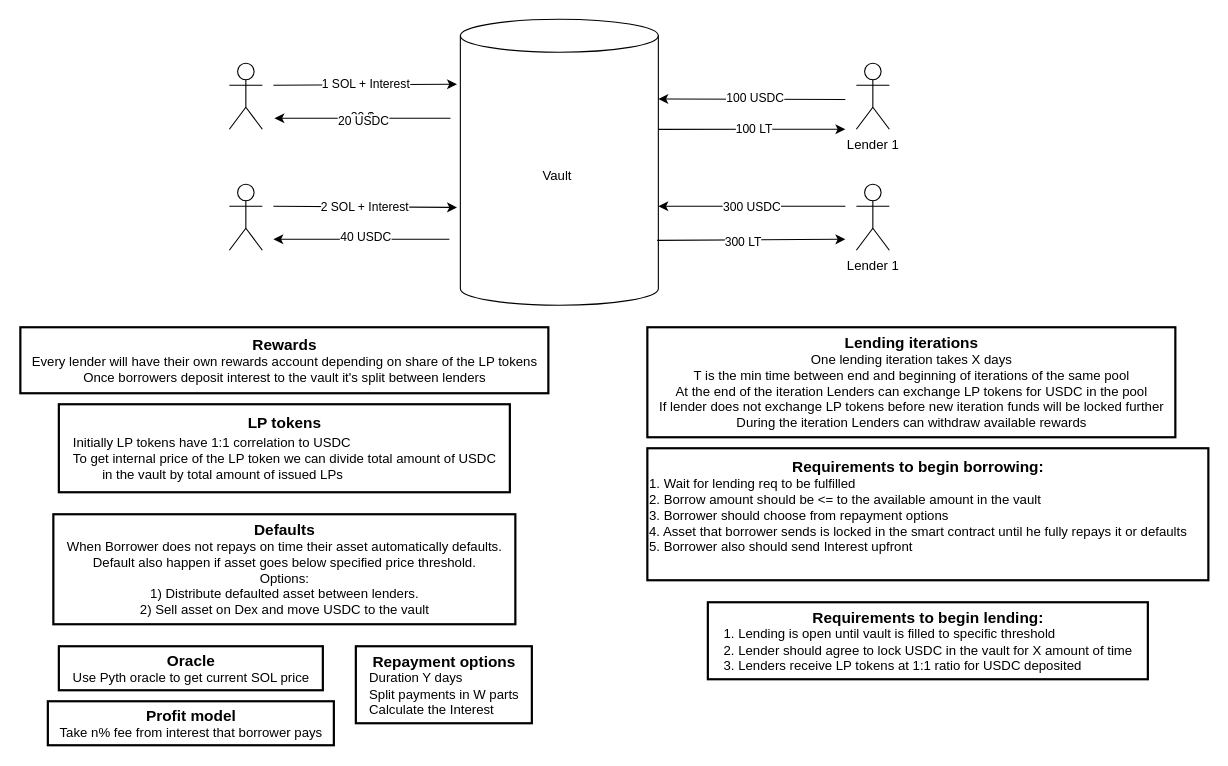
This 1228x766 diagram has some shape labels left out. The centre of each missing label's shape, as x and y in pixels:
Borrower 1: the point at 245,95
Borrower 2: the point at 245,216
